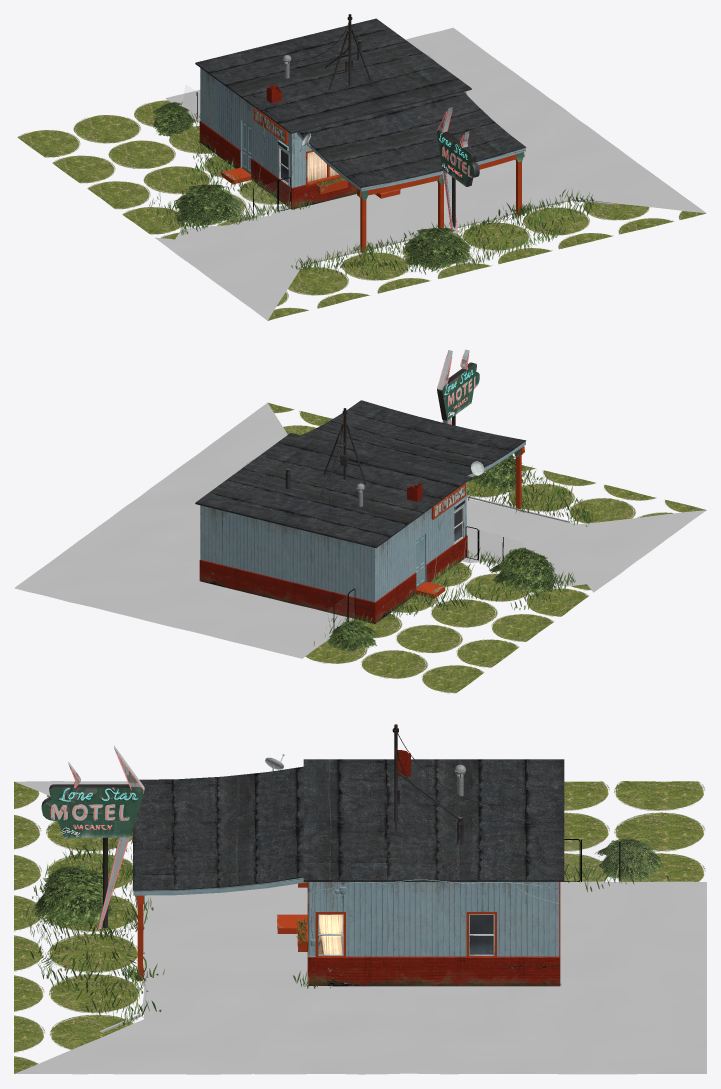
The picture shows the model from 3 angles, top to bottom: view 1: azimuth 30°, elevation 25°; view 2: azimuth 150°, elevation 25°; view 3: azimuth 270°, elevation 25°; orthographic projection. The views are drawn at different scales.
Visible parts, largest first — view 1: house, ground, grass_plane, grass, bush, stand, wood; view 2: house, ground, grass_plane, grass, bush, stand; view 3: ground, house, grass_plane, grass, stand, bush, red neon.
Part boxes in pixels (x1=…): house: x1=195, y1=14, x2=526, y2=252; ground: x1=155, y1=27, x2=706, y2=320; grass_plane: x1=17, y1=100, x2=705, y2=320; grass: x1=147, y1=102, x2=596, y2=276; bush: x1=151, y1=102, x2=471, y2=270; stand: x1=437, y1=107, x2=479, y2=234; wood: x1=309, y1=199, x2=614, y2=263; house: x1=195, y1=400, x2=526, y2=623; ground: x1=14, y1=403, x2=706, y2=658; grass_plane: x1=268, y1=402, x2=706, y2=693; grass: x1=200, y1=466, x2=593, y2=645; bush: x1=328, y1=454, x2=557, y2=651; stand: x1=437, y1=349, x2=479, y2=425; ground: x1=14, y1=781, x2=706, y2=1074; house: x1=133, y1=724, x2=564, y2=986; grass_plane: x1=14, y1=781, x2=705, y2=1073; grass: x1=22, y1=829, x2=669, y2=1026; stand: x1=41, y1=745, x2=144, y2=928; bush: x1=32, y1=838, x2=663, y2=928; red neon: x1=50, y1=754, x2=143, y2=928.
Bounding box in the file's own units: 20000 × 6792 × 20000.
